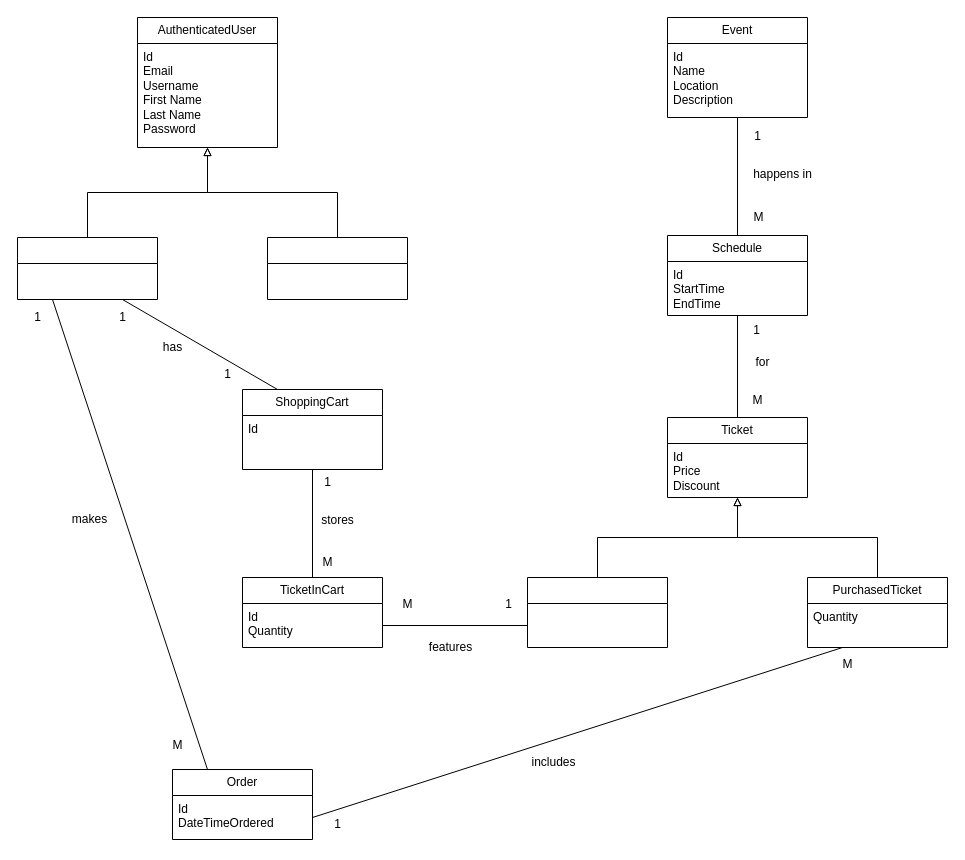
Some shapes in this 965 by 860 pixel diagram are drawn without their labels. The shapes that lost their labels are listed below. From the top down, each one's centre as x and y in pixels, then its label:
point (87, 268): Attendee
point (337, 268): Admin
point (597, 612): TicketForPurchase
